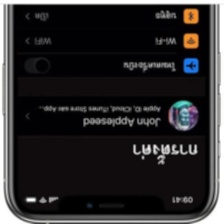phone: (0, 0, 222, 224)
